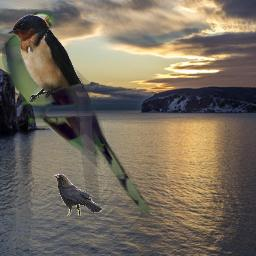Crow: (53, 174, 102, 216)
Cuckoo: (2, 11, 162, 217)
Swallow: (6, 14, 83, 102)
